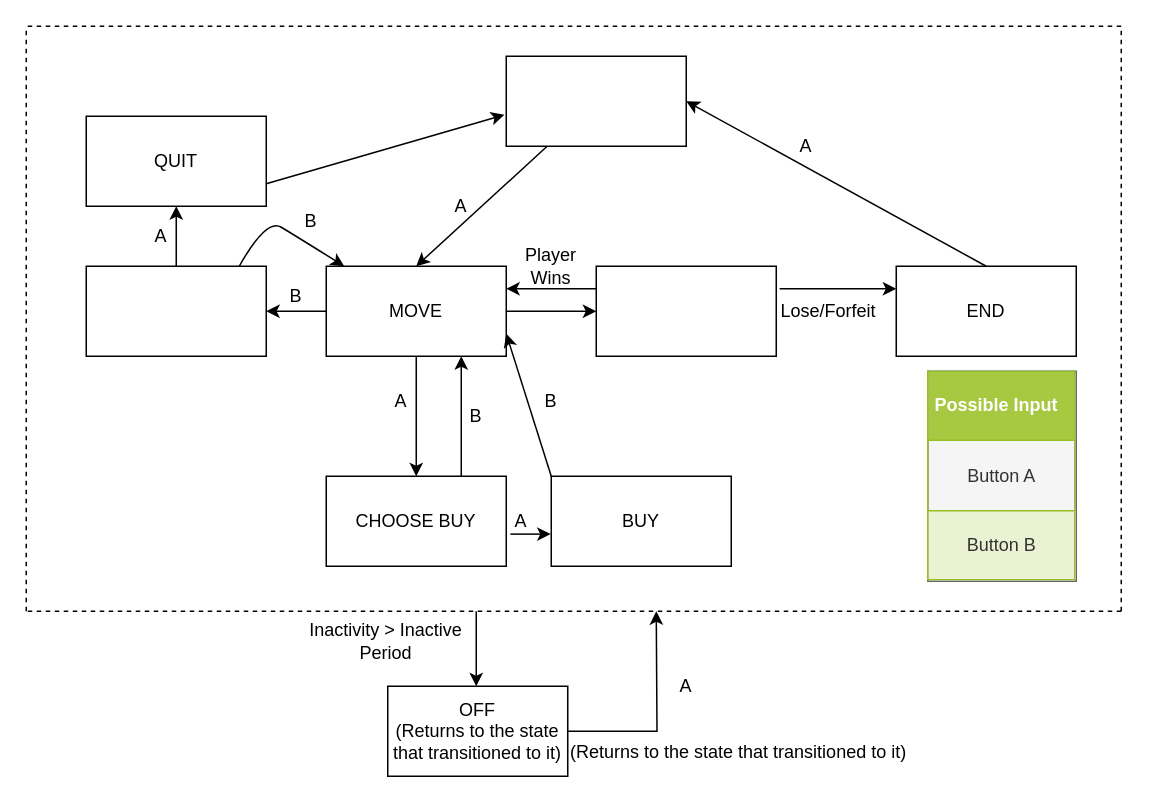
Image size: 1149x803. Some labels were removed from this diagram. The shapes that lost their labels are listed below. From the top down, each one's centre as x and y in pixels, then its label:
the point at 595,100: START
the point at 175,310: CHOOSE QUIT
the point at 685,310: FIGHT
